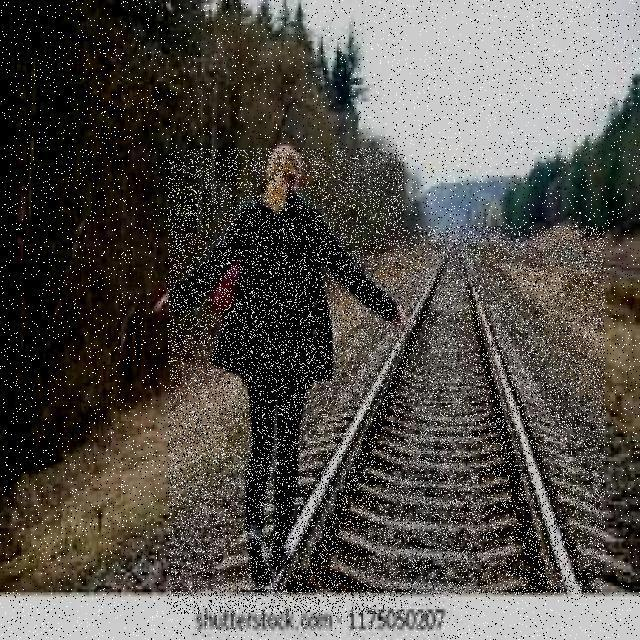danger: (168, 148, 404, 614)
rail: (204, 226, 605, 594)
